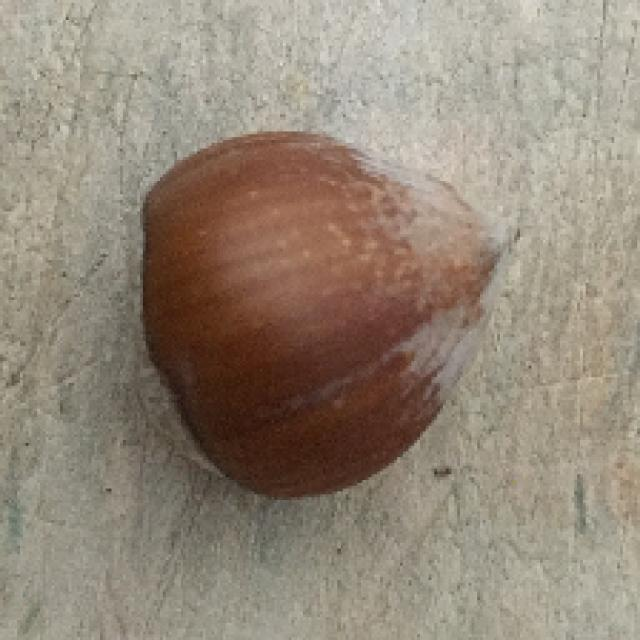qualityHazelnut: (135, 126, 511, 510)
